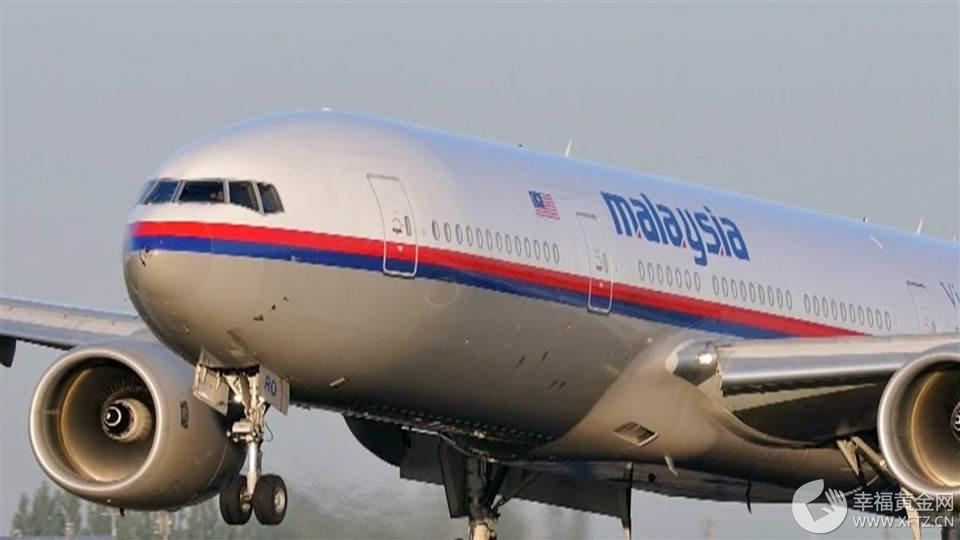airplane: (1, 106, 960, 519)
